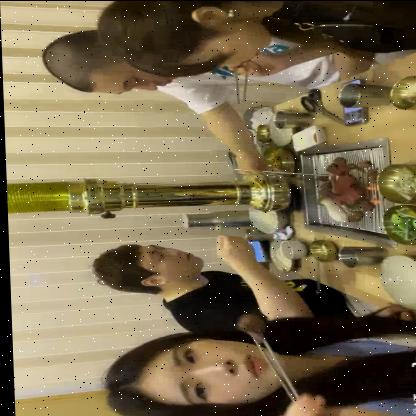streamer: (40, 21, 343, 175), (98, 302, 416, 416), (87, 233, 383, 332), (96, 0, 416, 76)
